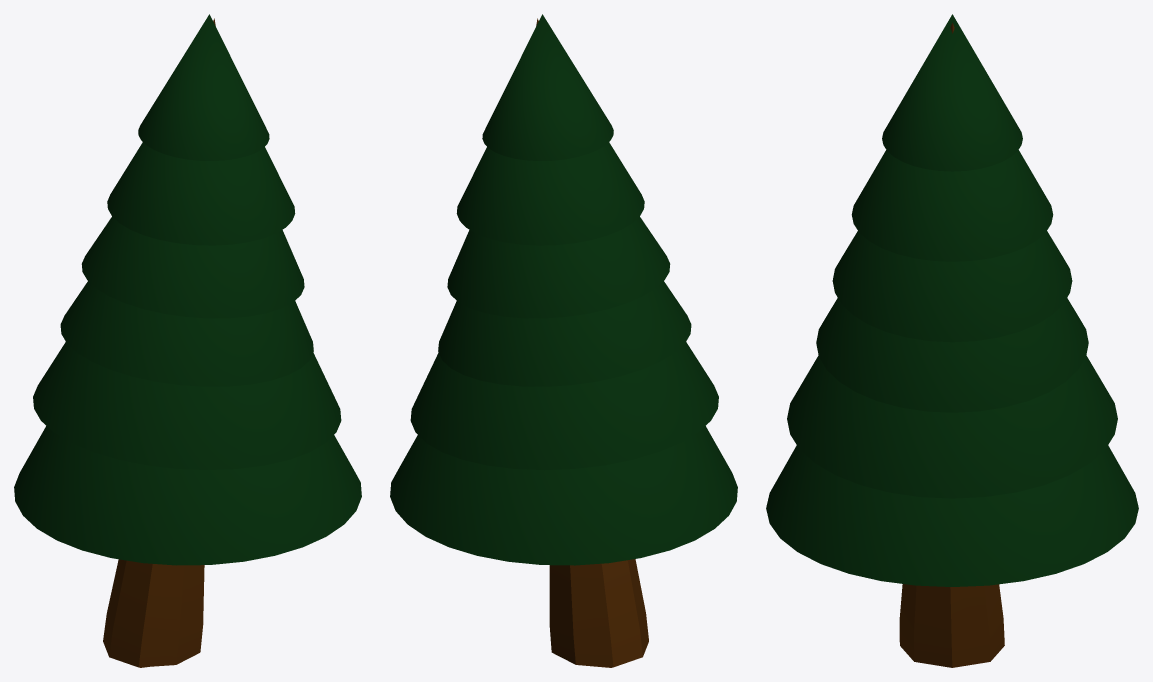
Rendered from agac.fbx.
3 views of the same model, side by side, from view 1: azimuth 30°, elevation 25°; view 2: azimuth 150°, elevation 25°; view 3: azimuth 270°, elevation 25° (orthographic). The views are drawn at different scales.
Visible parts, largest first — view 1: Cone.002, Cone.001, Cone, Cone.003, Cone.004, Cone.005, Cube; view 2: Cone.002, Cone.001, Cone, Cone.003, Cone.004, Cone.005, Cube; view 3: Cone.002, Cone.001, Cone, Cone.003, Cone.004, Cone.005, Cube.
Boxes of the visible parts, x1,y1,x2,y2 form: Cone.002: (14,426,361,565); Cone.001: (33,342,341,469); Cone: (60,281,313,386); Cone.003: (81,216,304,318); Cone.004: (107,142,295,245); Cone.005: (138,14,269,160); Cube: (103,18,215,667); Cone.002: (390,426,737,565); Cone.001: (410,342,718,470); Cone: (438,281,691,386); Cone.003: (447,216,670,318); Cone.004: (456,142,644,245); Cone.005: (482,14,613,160); Cube: (536,18,648,667); Cone.002: (766,445,1138,586); Cone.001: (787,355,1117,498); Cone: (816,298,1088,412); Cone.003: (832,231,1072,342); Cone.004: (851,150,1053,261); Cone.005: (882,14,1022,171); Cube: (899,22,1004,667).
Size of the model in its own units: 617 by 1218 by 617.
